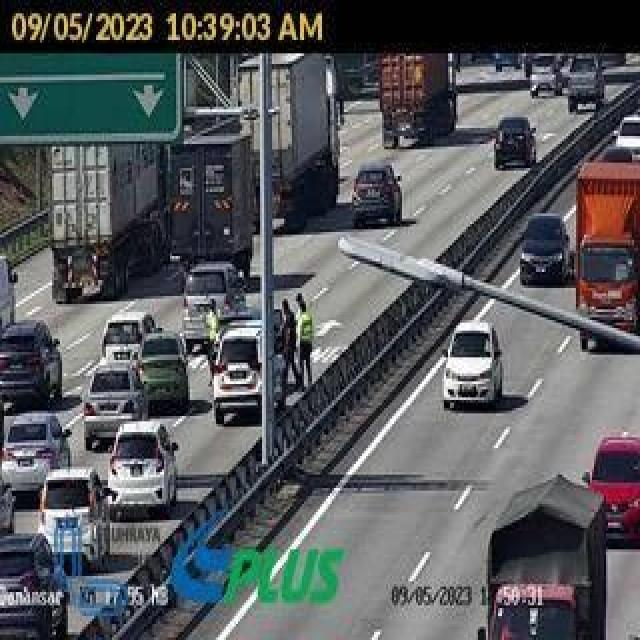Car: (210, 326, 291, 424), (0, 529, 70, 640), (36, 468, 111, 564), (106, 422, 180, 511), (0, 412, 75, 492), (582, 439, 640, 542), (183, 262, 249, 348), (82, 360, 146, 447), (0, 321, 64, 406), (442, 319, 504, 406), (131, 330, 190, 406), (101, 309, 163, 369), (520, 212, 573, 282), (348, 162, 405, 225), (564, 56, 606, 111), (493, 117, 536, 168), (528, 54, 566, 100), (612, 114, 640, 153)
Truck: (46, 132, 172, 310), (478, 473, 606, 640), (232, 50, 346, 225), (171, 133, 255, 277), (576, 160, 640, 349), (377, 49, 457, 151)
